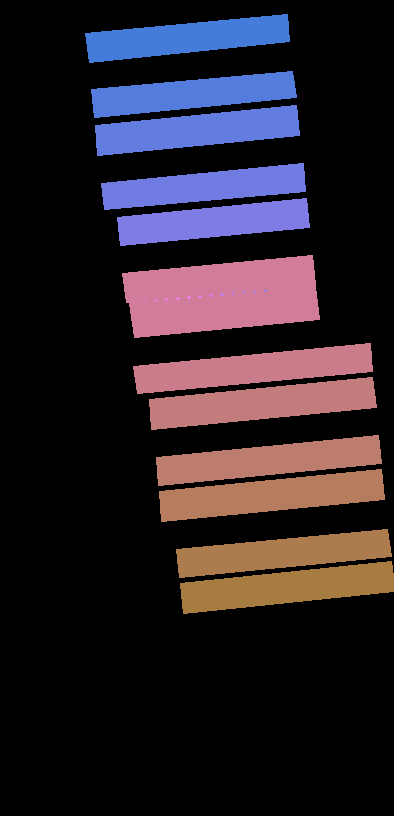parkingspot: (133, 343, 372, 393), (149, 377, 376, 429), (159, 469, 384, 521), (156, 435, 381, 485), (180, 561, 394, 613), (176, 529, 391, 577), (95, 105, 299, 155), (85, 14, 289, 62), (129, 286, 319, 337), (91, 71, 296, 117), (101, 163, 305, 209), (122, 255, 315, 302), (117, 198, 309, 245)
